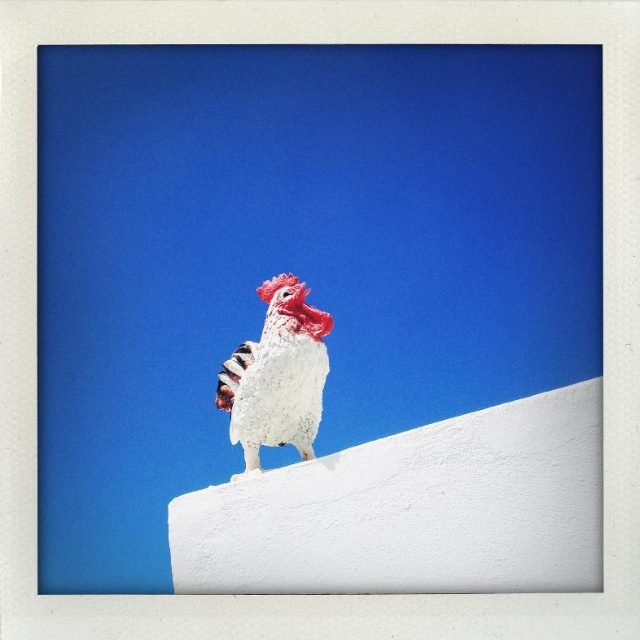Chicken: (211, 272, 331, 474)
